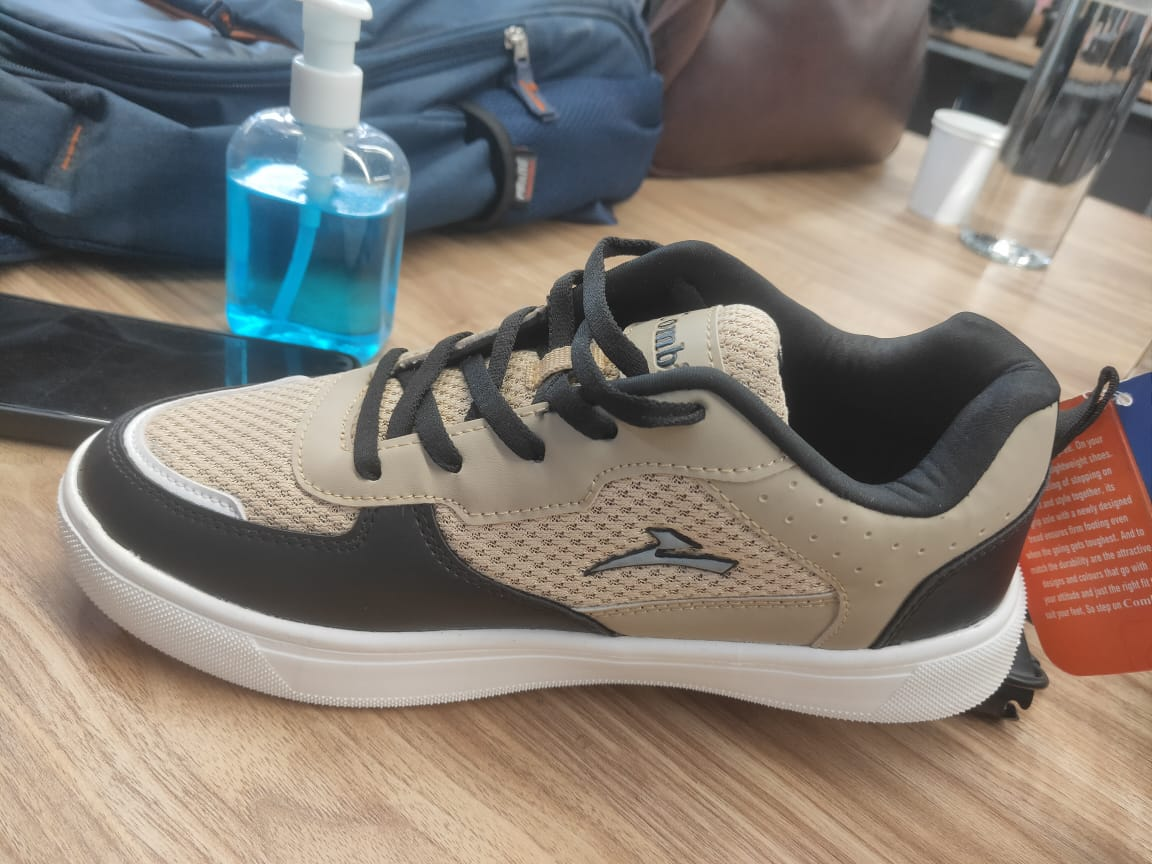Footwear: (45, 234, 1057, 739)
